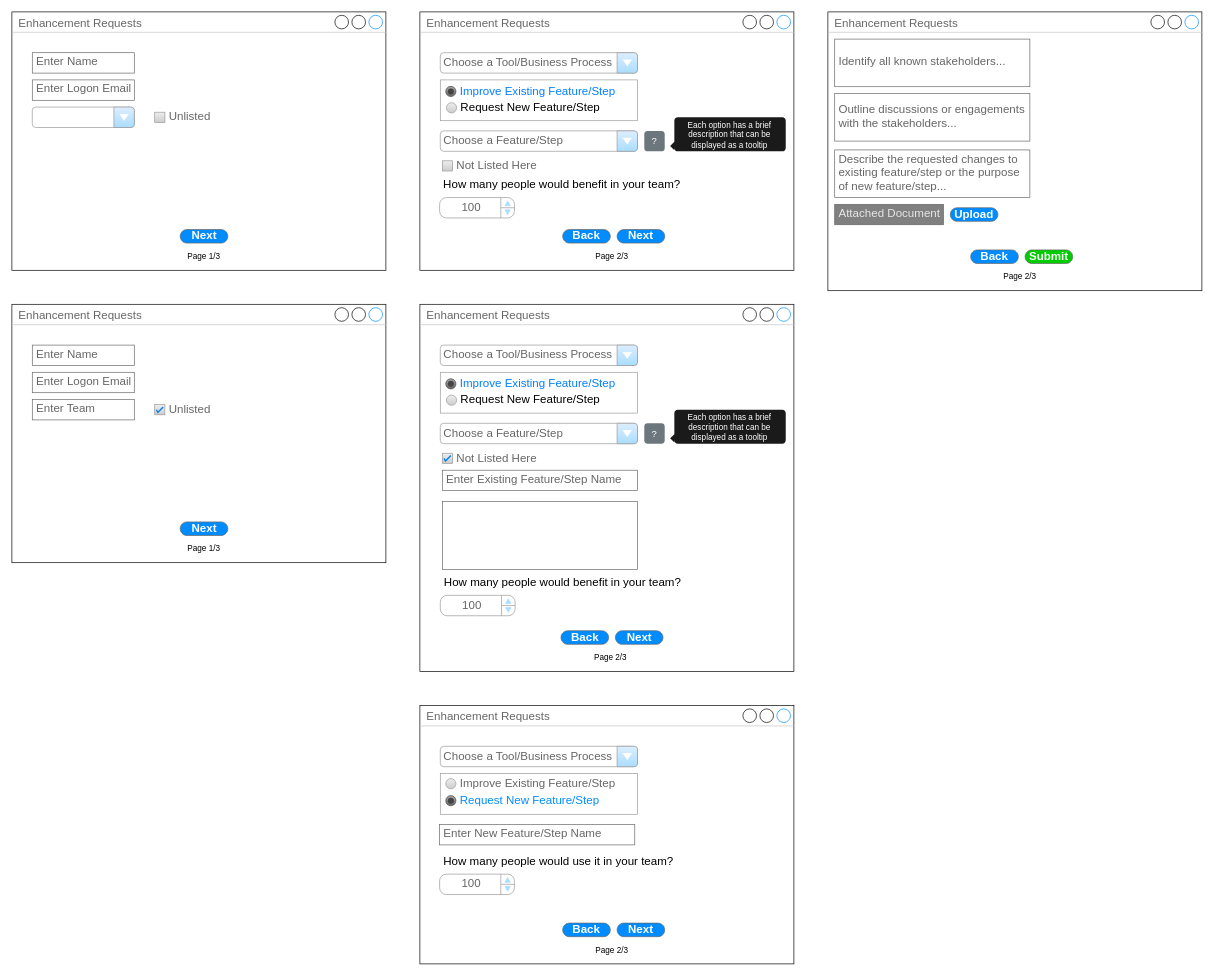
Image size: 1214x976. Some labels were removed from this diagram. The centre of each missing label's shape, as x and y in pixels:
"Choose Team" goes at point 83,117.
"Write Brief Description..." goes at point 540,535.
